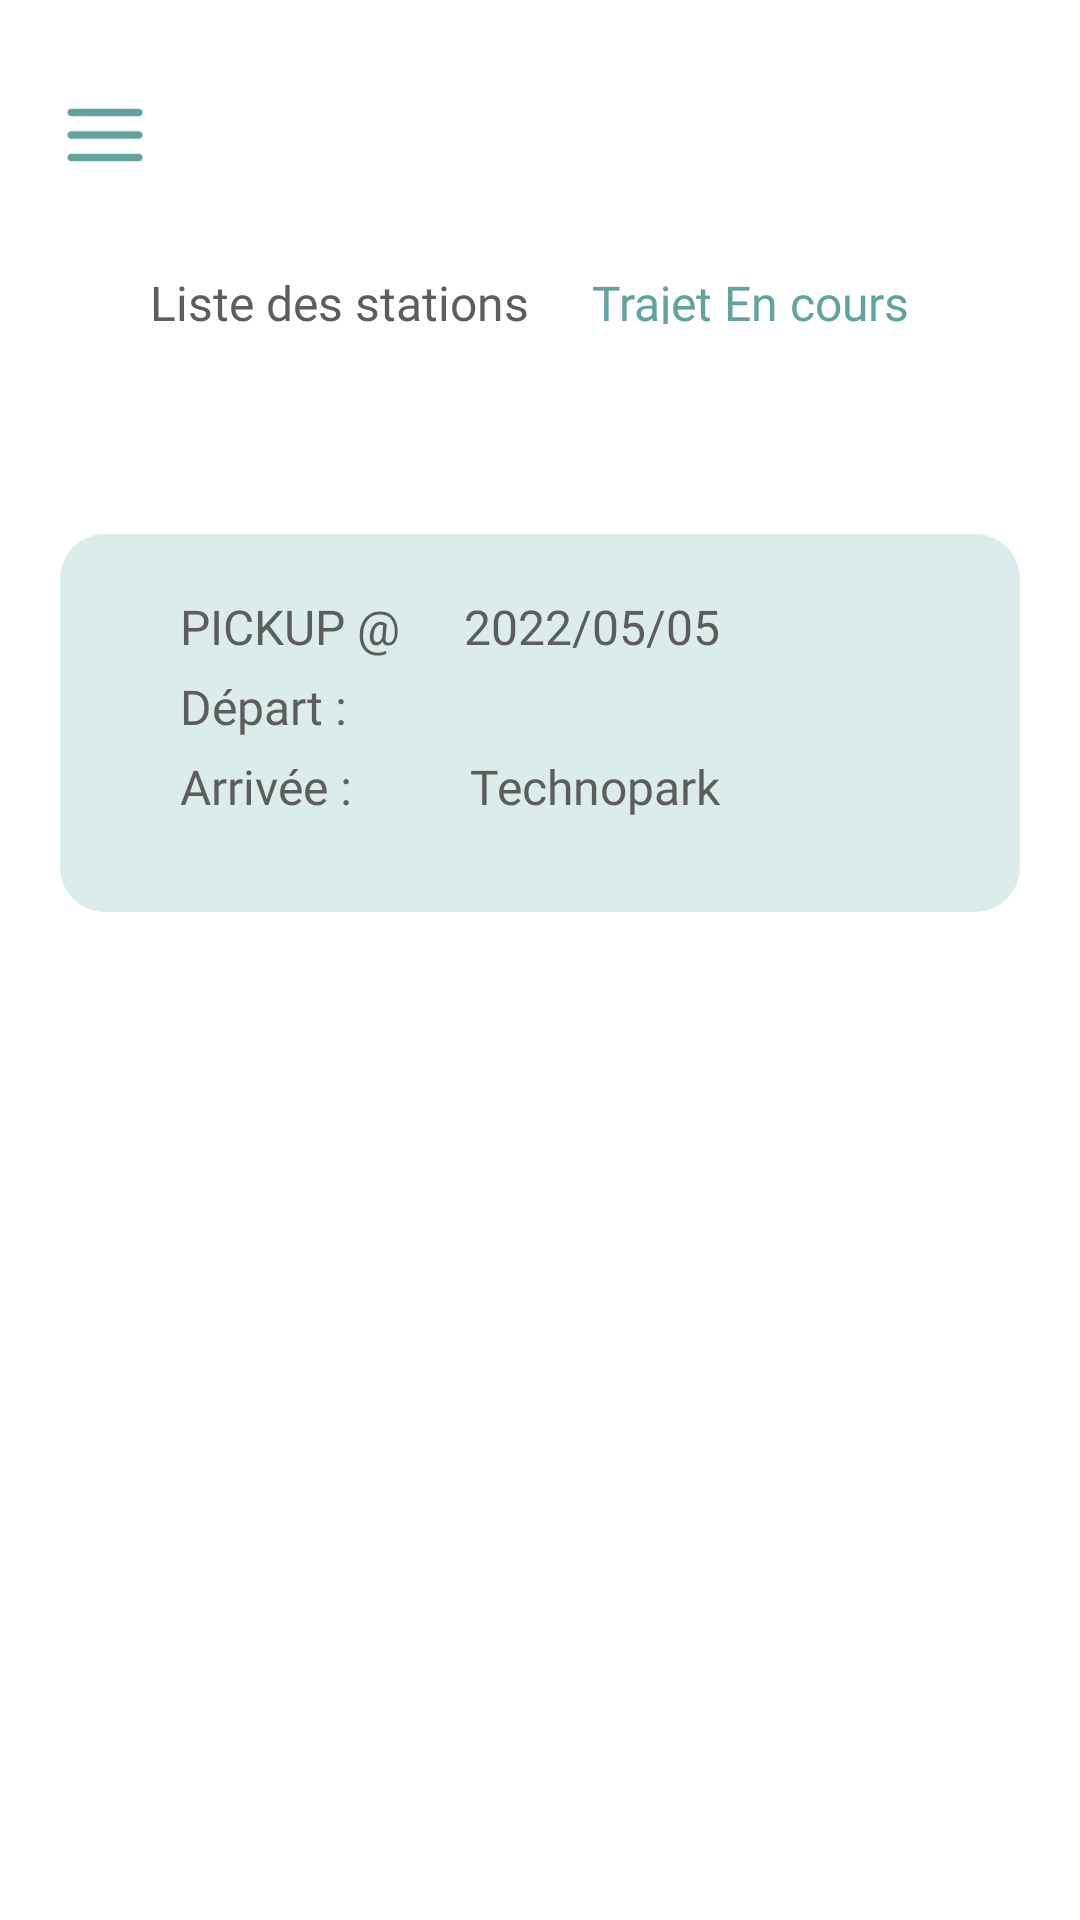

Locate icon controls on the screen. Image size 1080*1920, boxes as (left=x1, top=y1, right=x2, bottom=y2).
menu: (left=67, top=108, right=143, bottom=162)
